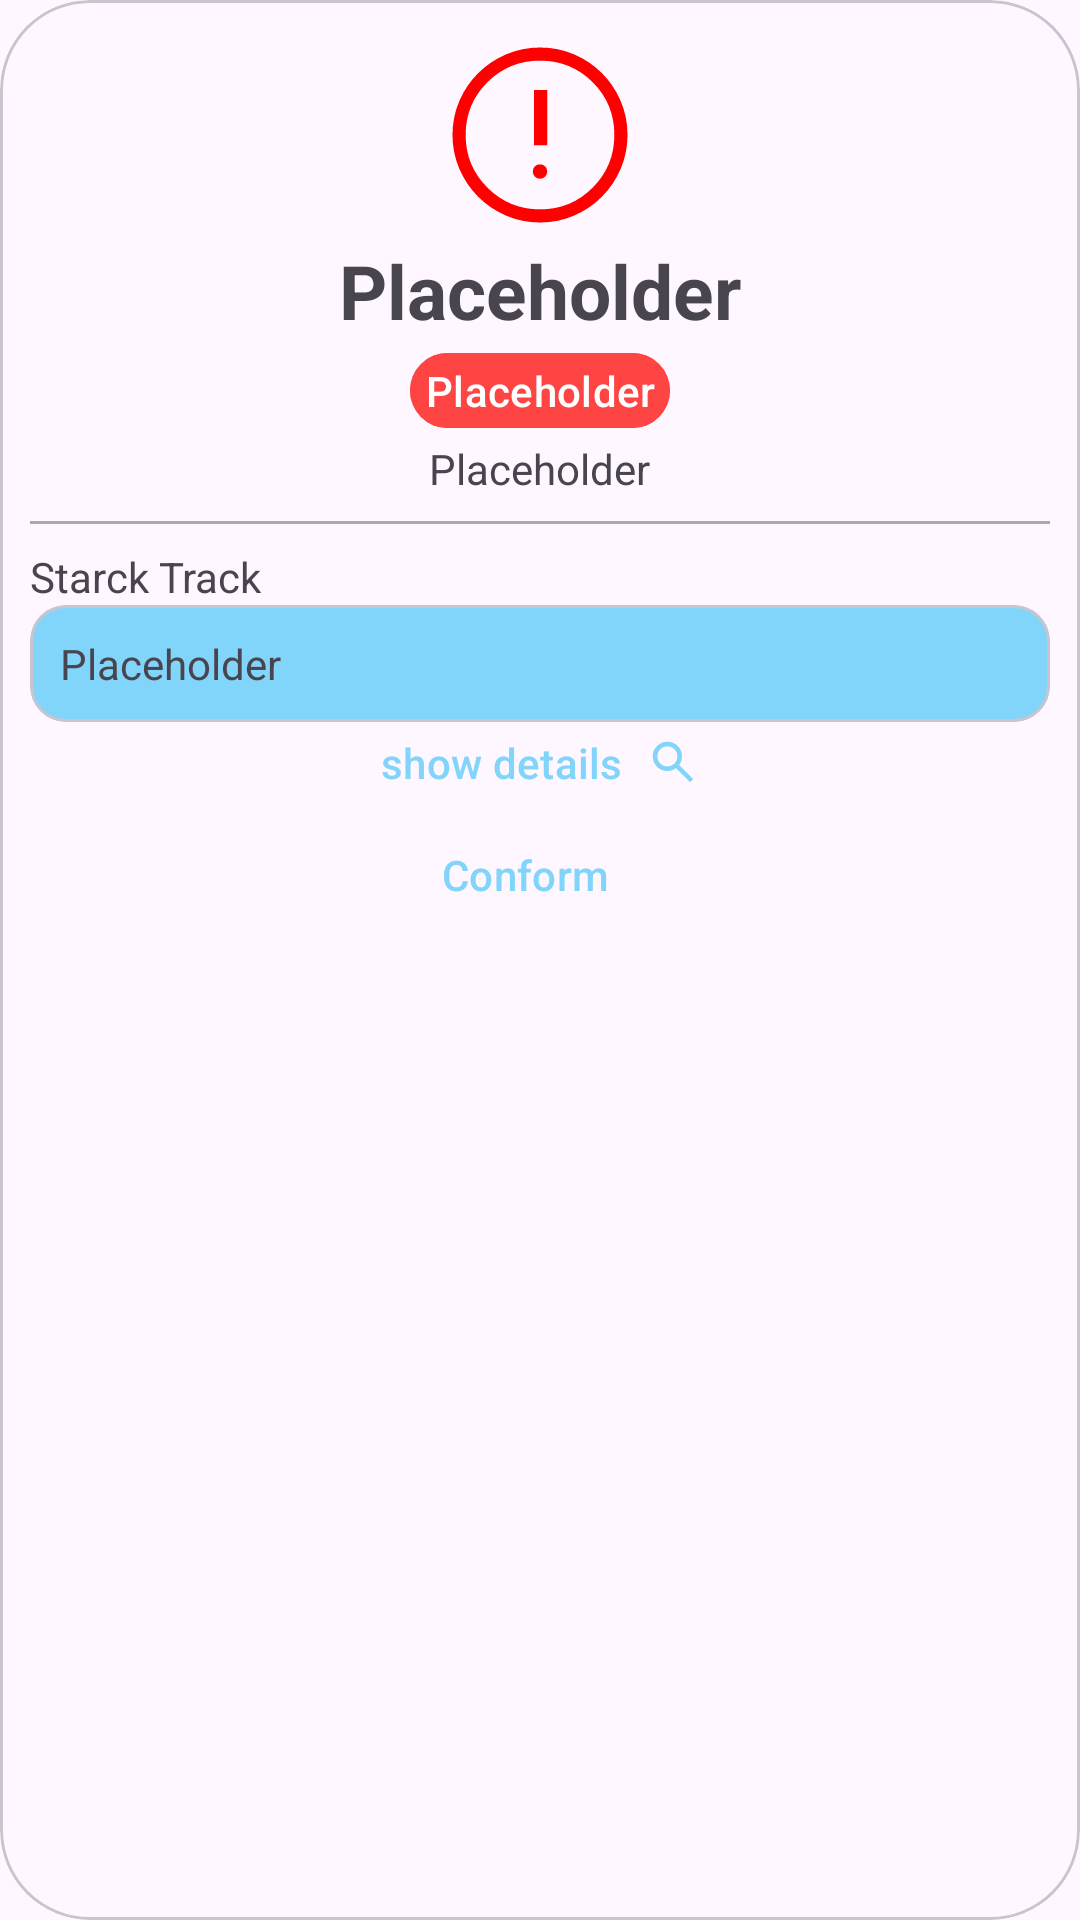

Icons on this 1080 x 1920 Android screen, each with its box as (x1, y1, x2, y2):
error: (452, 47, 628, 223)
